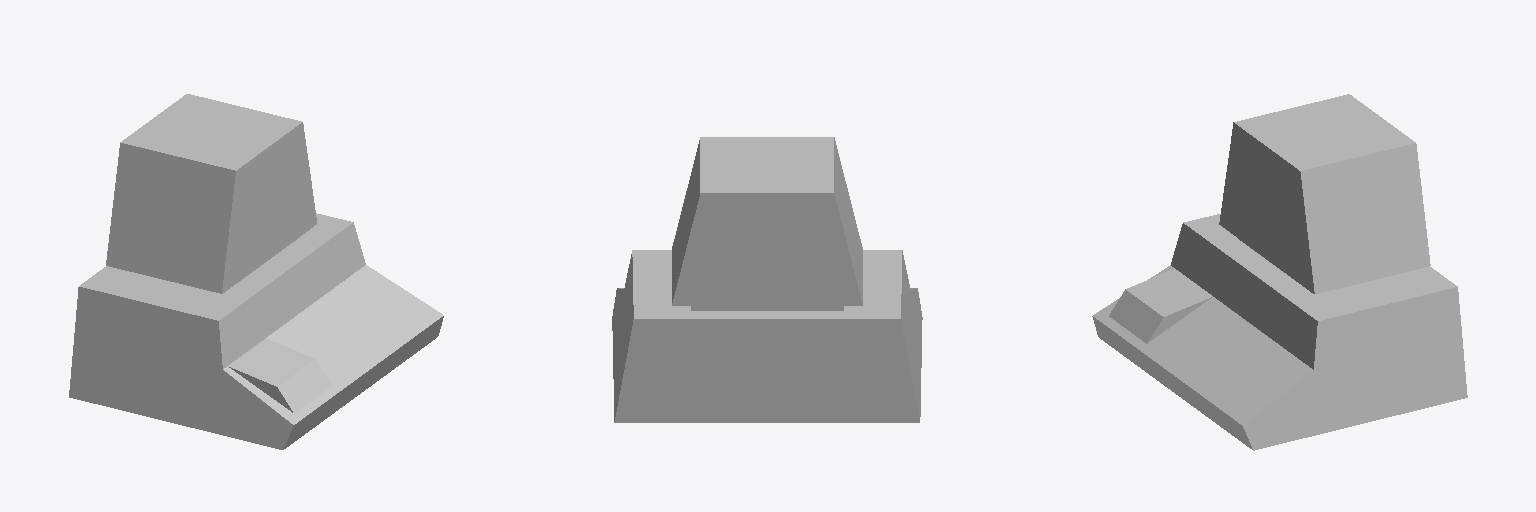
The model's file is computer.obj.
3 views of the same model, side by side, from view 1: azimuth 30°, elevation 25°; view 2: azimuth 150°, elevation 25°; view 3: azimuth 270°, elevation 25° (orthographic).
Visible parts, largest first — view 1: pc_cpet; view 2: pc_cpet; view 3: pc_cpet.
Boxes of the visible parts, x1=… form: pc_cpet: x1=69, y1=94, x2=443, y2=449; pc_cpet: x1=612, y1=137, x2=922, y2=422; pc_cpet: x1=1092, y1=94, x2=1467, y2=450.
Size of the model in its own units: 0.6147 by 0.39 by 0.5887.